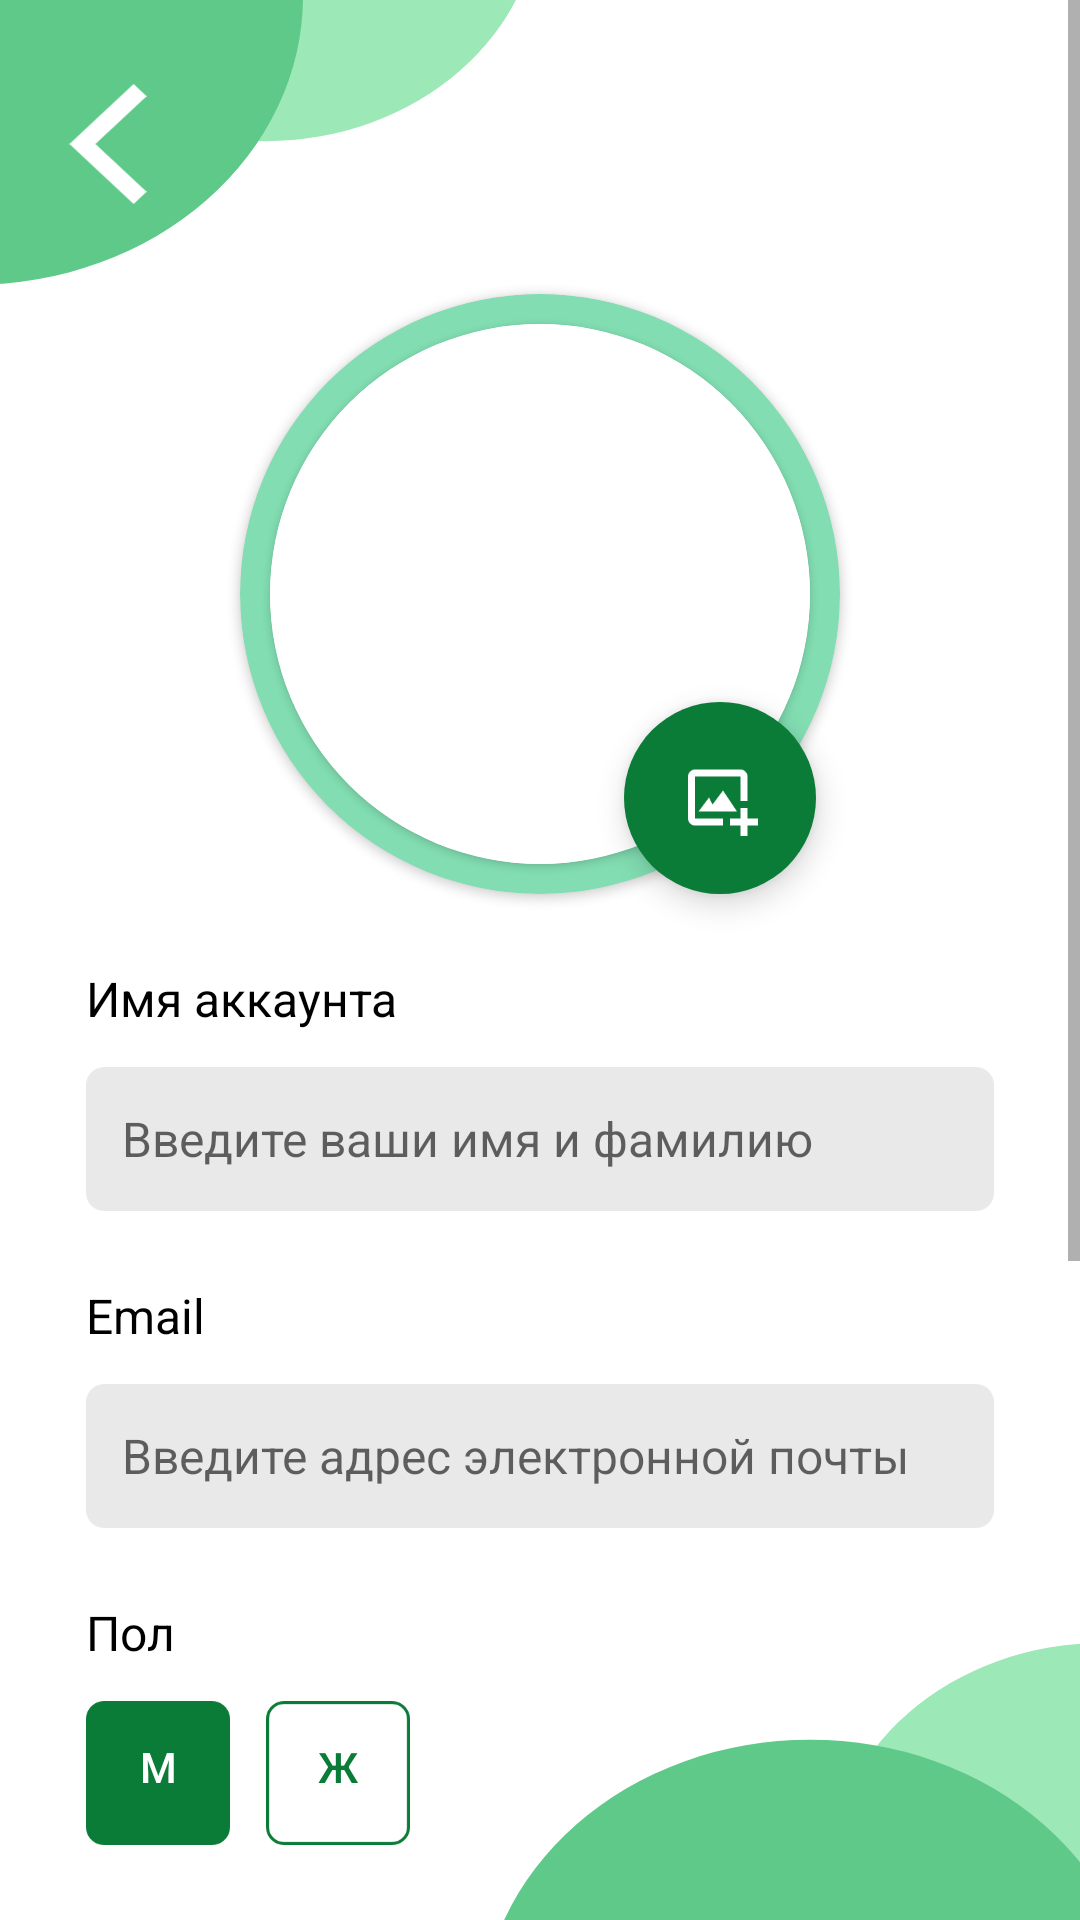

Where to tap for icons on this 1080px×1920px app screen, as [x,y]:
add photo: [720,798]
back: [108,144]
